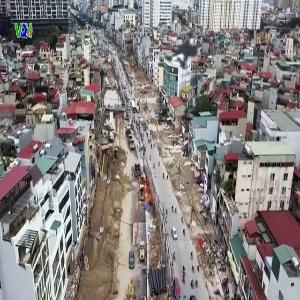drone: (141, 4, 237, 100)
